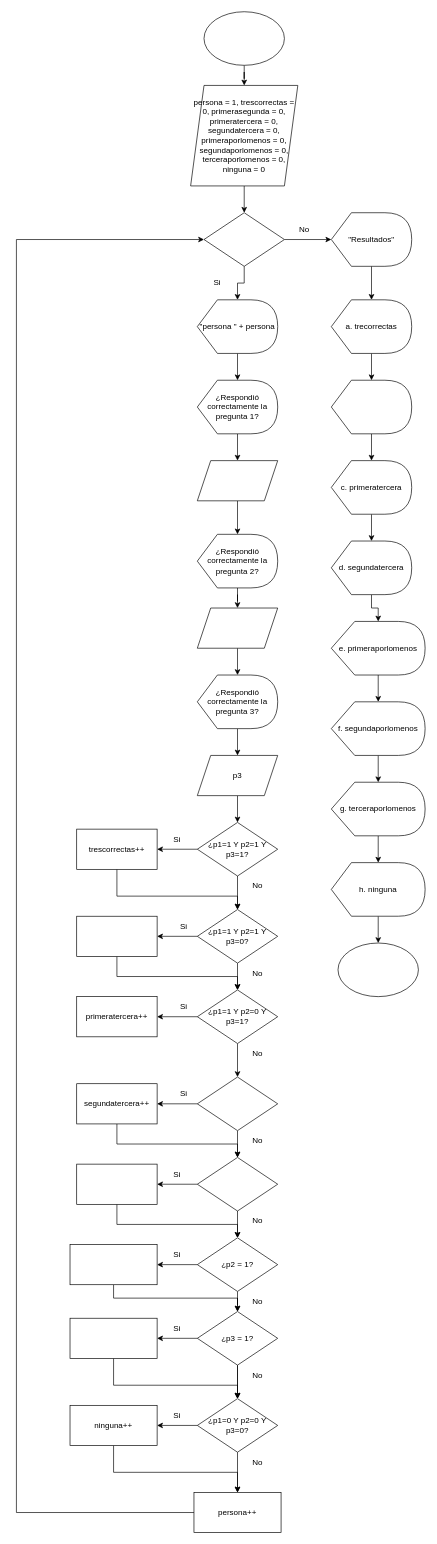
Some shapes in this 437 by 1544 pixel diagram are drawn without their labels. Each missing label, with the centre of its shape:
"b. primerasegunda" goes at point 371,407.
"Fin" goes at point 377,969.
"Inicio" goes at point 243,38.
"p1" goes at point 237,480.
"p2" goes at point 237,627.
"primeraporlomenos++" goes at point 116,1183.
"primerasegunda++" goes at point 116,936.
"segundaporlomenos++" goes at point 113,1264.
"terceraporlomenos++" goes at point 113,1338.
"¿p1 = 1?" goes at point 237,1184.
"¿p1=0 Y p2=1 Y p3=1?" goes at point 237,1103.
"¿persona <= 5?" goes at point 243,239.
